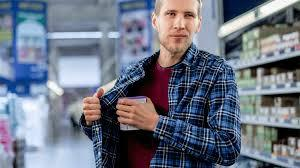shoplifting: (67, 67, 209, 168)
